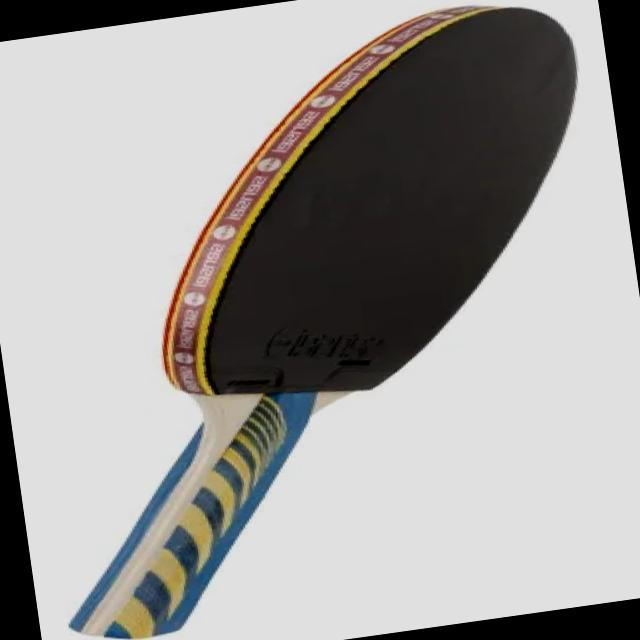TT Racket: (53, 0, 597, 473)
